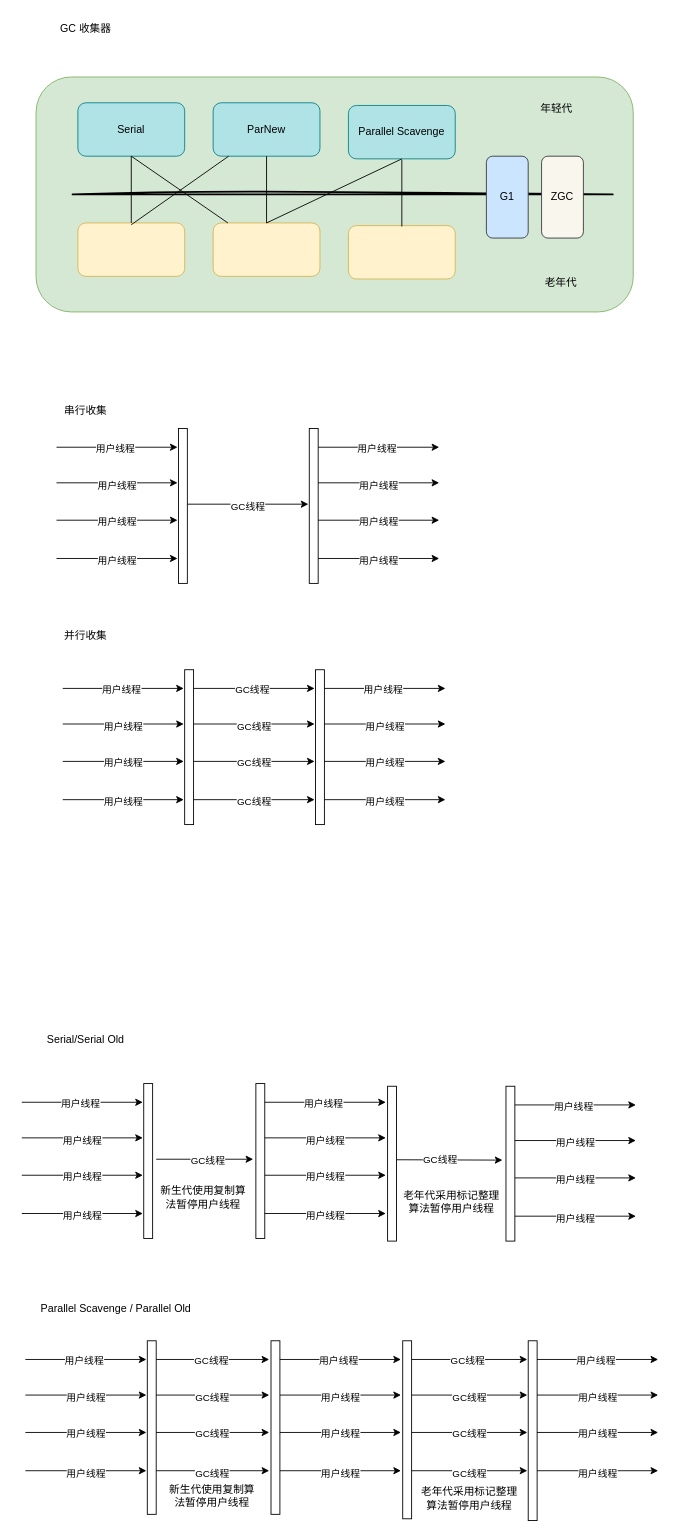
This 681x1536 diagram has some shape labels left out. The shapes that lost their labels are listed below. From the top down, each one's centre as x and y in pixels, then its label:
At point 131,249: "CMS".
At point 266,249: "Serial Old".
At point 401,252: "Parallel Old".
